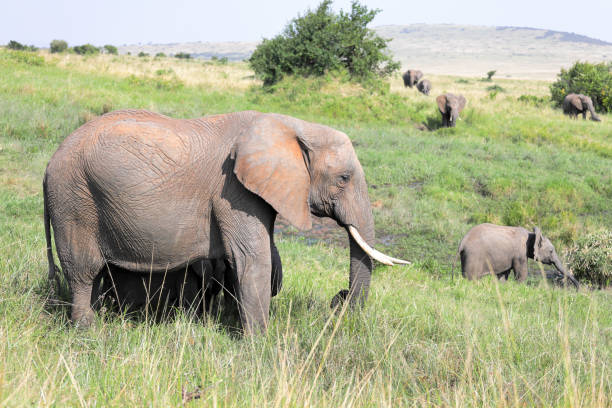africanelephant: (267, 116, 416, 280)
